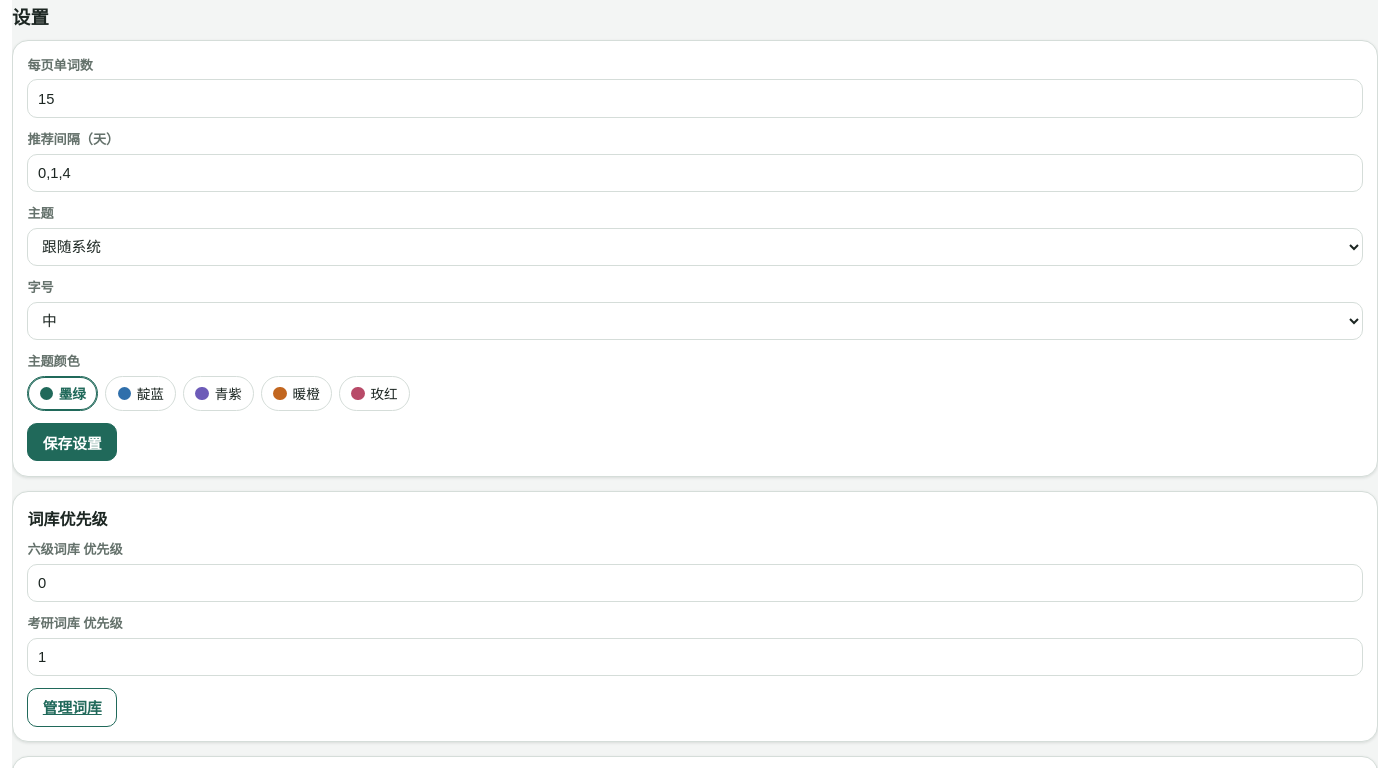
Scenario: 设置页 › 间隔输入非法时不提交并提示
Replace the text in the field labelled "推荐间隔（天）" with "0,,-2". click: point(695, 173)
box: [27,154,1363,192]
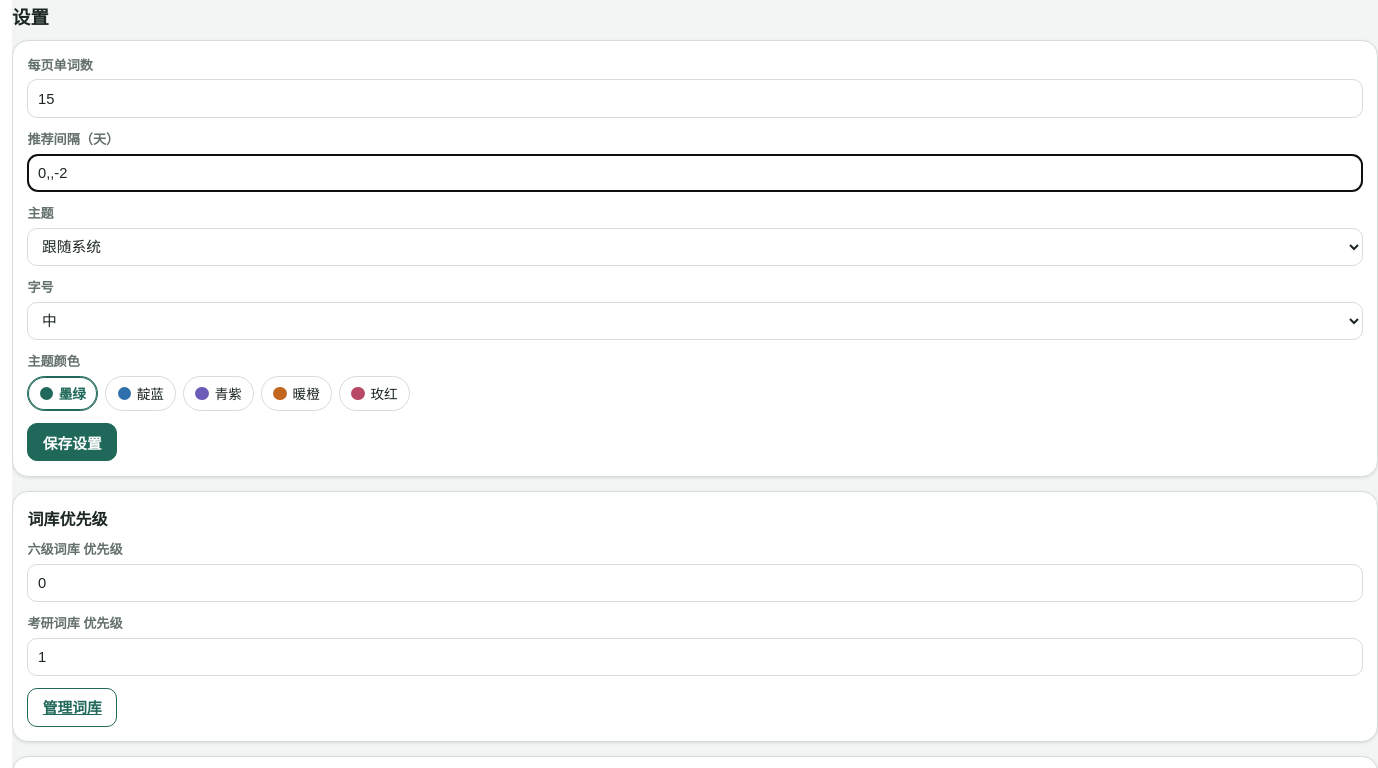
Click the button "保存设置". click: point(72, 442)
box: [27,423,117,461]
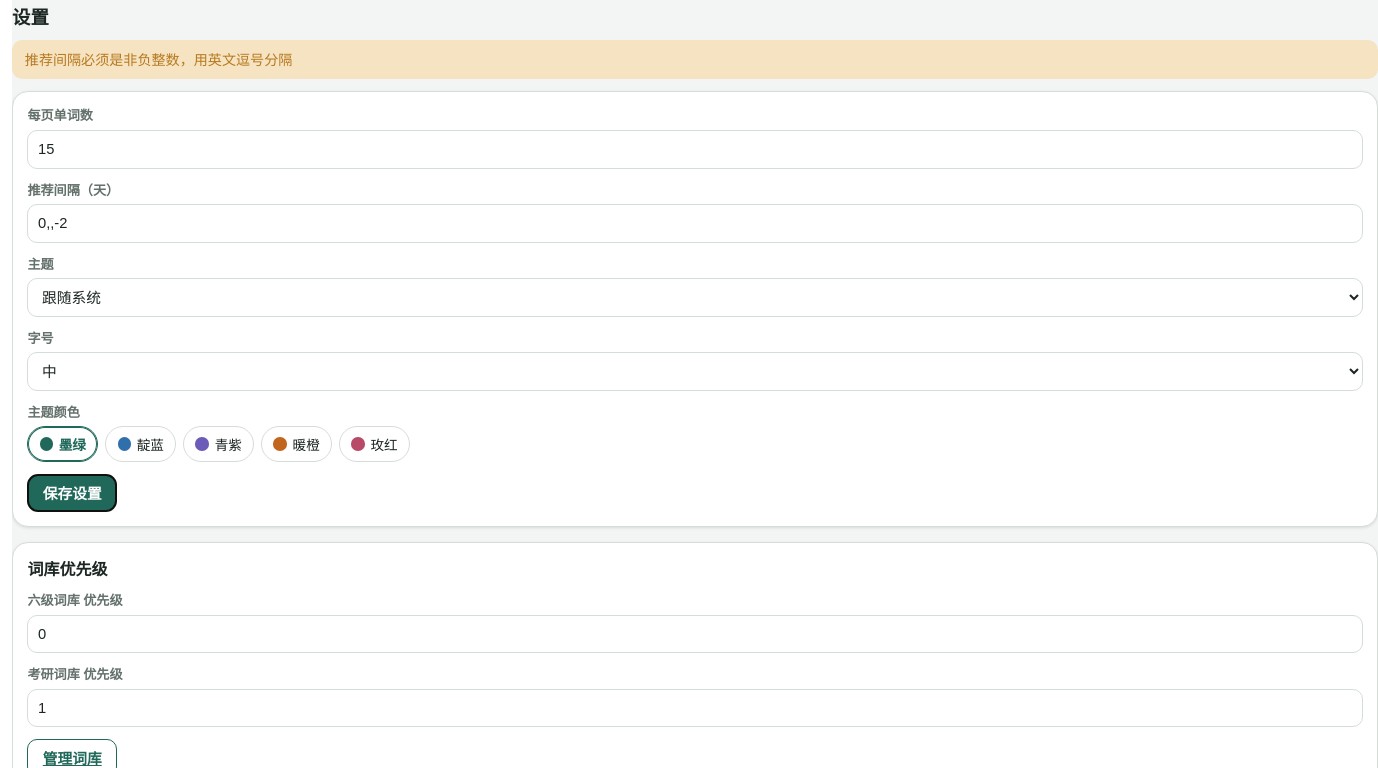
Expected: the text "推荐间隔必须是非负整数，用英文逗号分隔" is shown, [12,40,1377,79]
